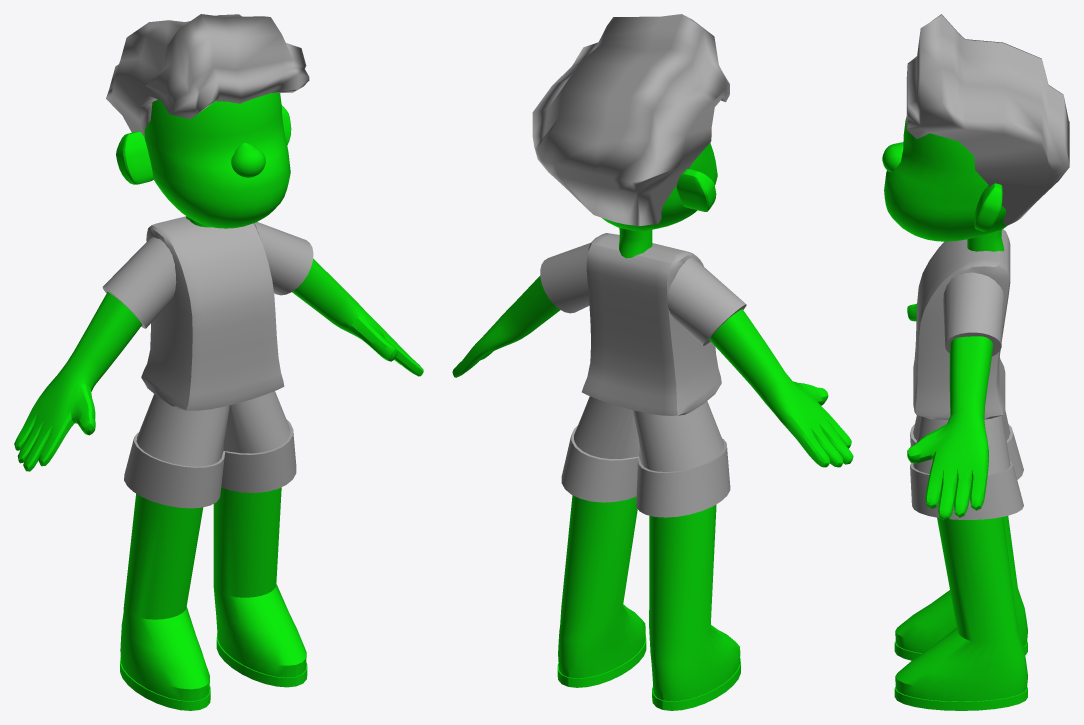
File: Carlo.fbx
3 renders of one model, left to right at view 1: azimuth 30°, elevation 25°; view 2: azimuth 150°, elevation 25°; view 3: azimuth 270°, elevation 25°, orthographic. The views are drawn at different scales.
Visible parts, largest first — view 1: polySurface119, Capelli, polySurface102, polySurface105, polySurface101, polySurface104, polySurface117, polySurface118, polySurface103, polySurface115, polySurface116, polySurface114 (+2 smaller); view 2: Capelli, polySurface119, polySurface102, polySurface101, polySurface117, polySurface104, polySurface118, polySurface115, polySurface116, polySurface103, polySurface114, polySurface105 (+2 smaller); view 3: Capelli, polySurface101, polySurface103, polySurface105, polySurface119, polySurface114, polySurface102, polySurface116, polySurface117, polySurface108, polySurface109, polySurface106 (+2 smaller).
Part boxes in pixels (x1,y1,x2,y2): polySurface119: (141, 216, 284, 410); Capelli: (106, 14, 309, 136); polySurface102: (120, 493, 210, 710); polySurface105: (144, 93, 290, 228); polySurface101: (213, 487, 307, 687); polySurface104: (14, 292, 142, 471); polySurface117: (136, 391, 290, 466); polySurface118: (124, 437, 224, 508); polySurface103: (292, 258, 423, 376); polySurface115: (103, 237, 176, 328); polySurface116: (221, 429, 296, 492); polySurface114: (255, 222, 313, 295); Capelli: (532, 14, 729, 225); polySurface119: (582, 233, 721, 415); polySurface102: (649, 504, 740, 710); polySurface101: (557, 495, 646, 687); polySurface117: (574, 396, 724, 471); polySurface104: (709, 309, 853, 467); polySurface118: (636, 448, 730, 517); polySurface115: (667, 258, 746, 345); polySurface116: (561, 435, 637, 502); polySurface103: (452, 276, 560, 377); polySurface114: (540, 243, 590, 313); polySurface105: (601, 142, 717, 230); Capelli: (906, 14, 1069, 225); polySurface101: (894, 517, 1027, 710); polySurface103: (907, 336, 993, 520); polySurface105: (884, 116, 1006, 241); polySurface119: (913, 229, 1010, 419); polySurface114: (943, 272, 1004, 346); polySurface102: (894, 516, 1027, 660); polySurface116: (910, 465, 1023, 519); polySurface117: (913, 410, 1010, 475); polySurface108: (974, 183, 1002, 231); polySurface109: (967, 229, 1004, 251); polySurface106: (882, 142, 903, 171).
Bounding box in the file's own units: 97.8 × 158 × 41.25.
